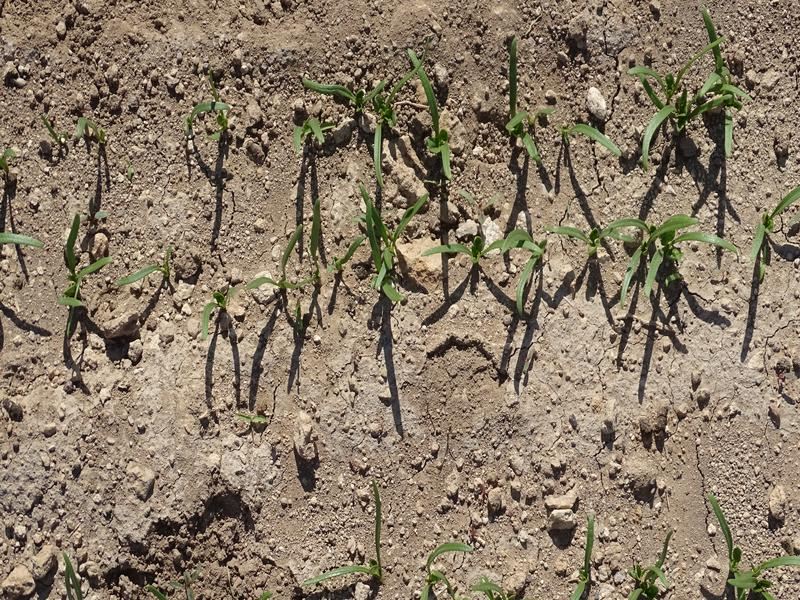Espinaca: (298, 57, 457, 184), (559, 205, 735, 294), (642, 25, 745, 153), (427, 225, 543, 313), (337, 191, 431, 297), (495, 37, 548, 161), (60, 209, 112, 329), (258, 218, 328, 299), (751, 180, 800, 268), (115, 252, 183, 296), (192, 277, 231, 344), (563, 122, 622, 158), (184, 97, 231, 137), (1, 232, 44, 253)
